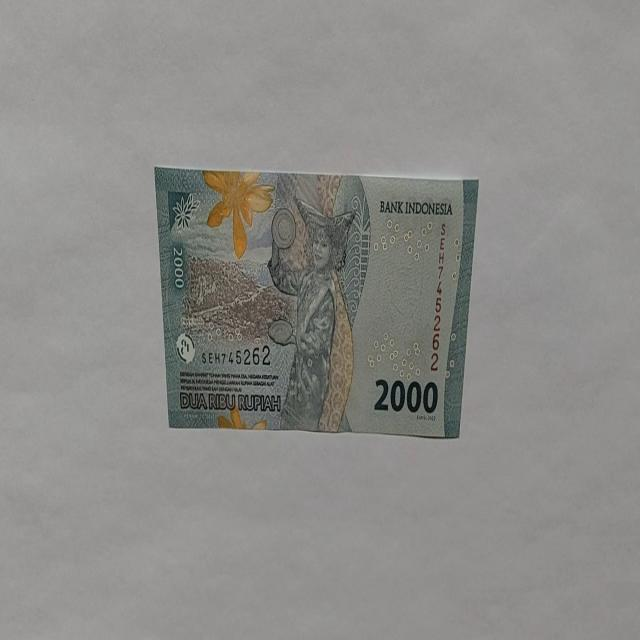dua ribu rupiah: (154, 167, 479, 438), (266, 195, 356, 432), (202, 168, 275, 260)
